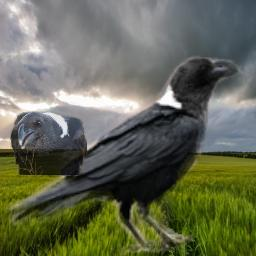Crow: (6, 49, 244, 255), (10, 111, 87, 175)
